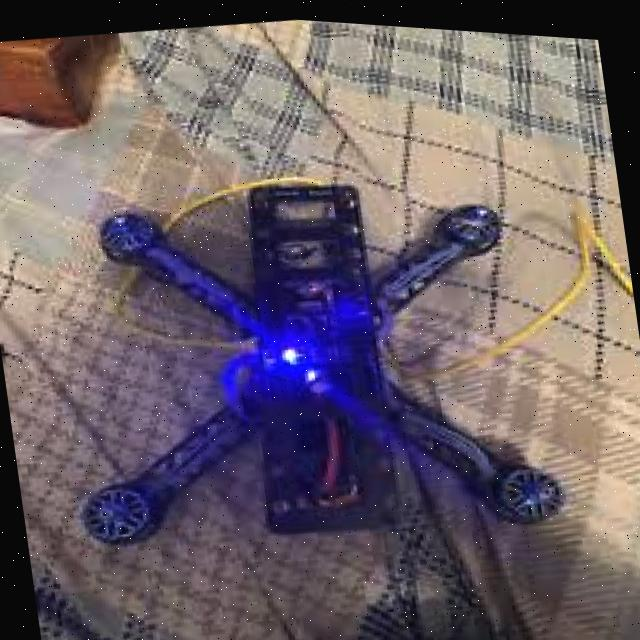drone: (40, 91, 588, 634)
